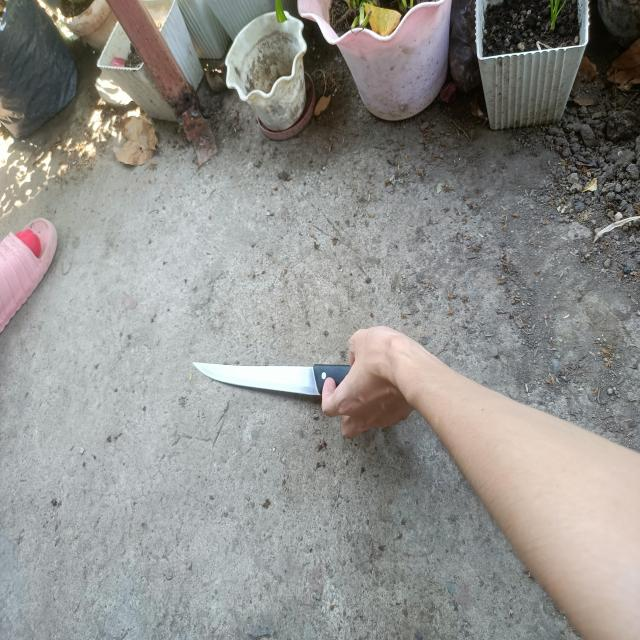knife: (192, 362, 322, 395)
